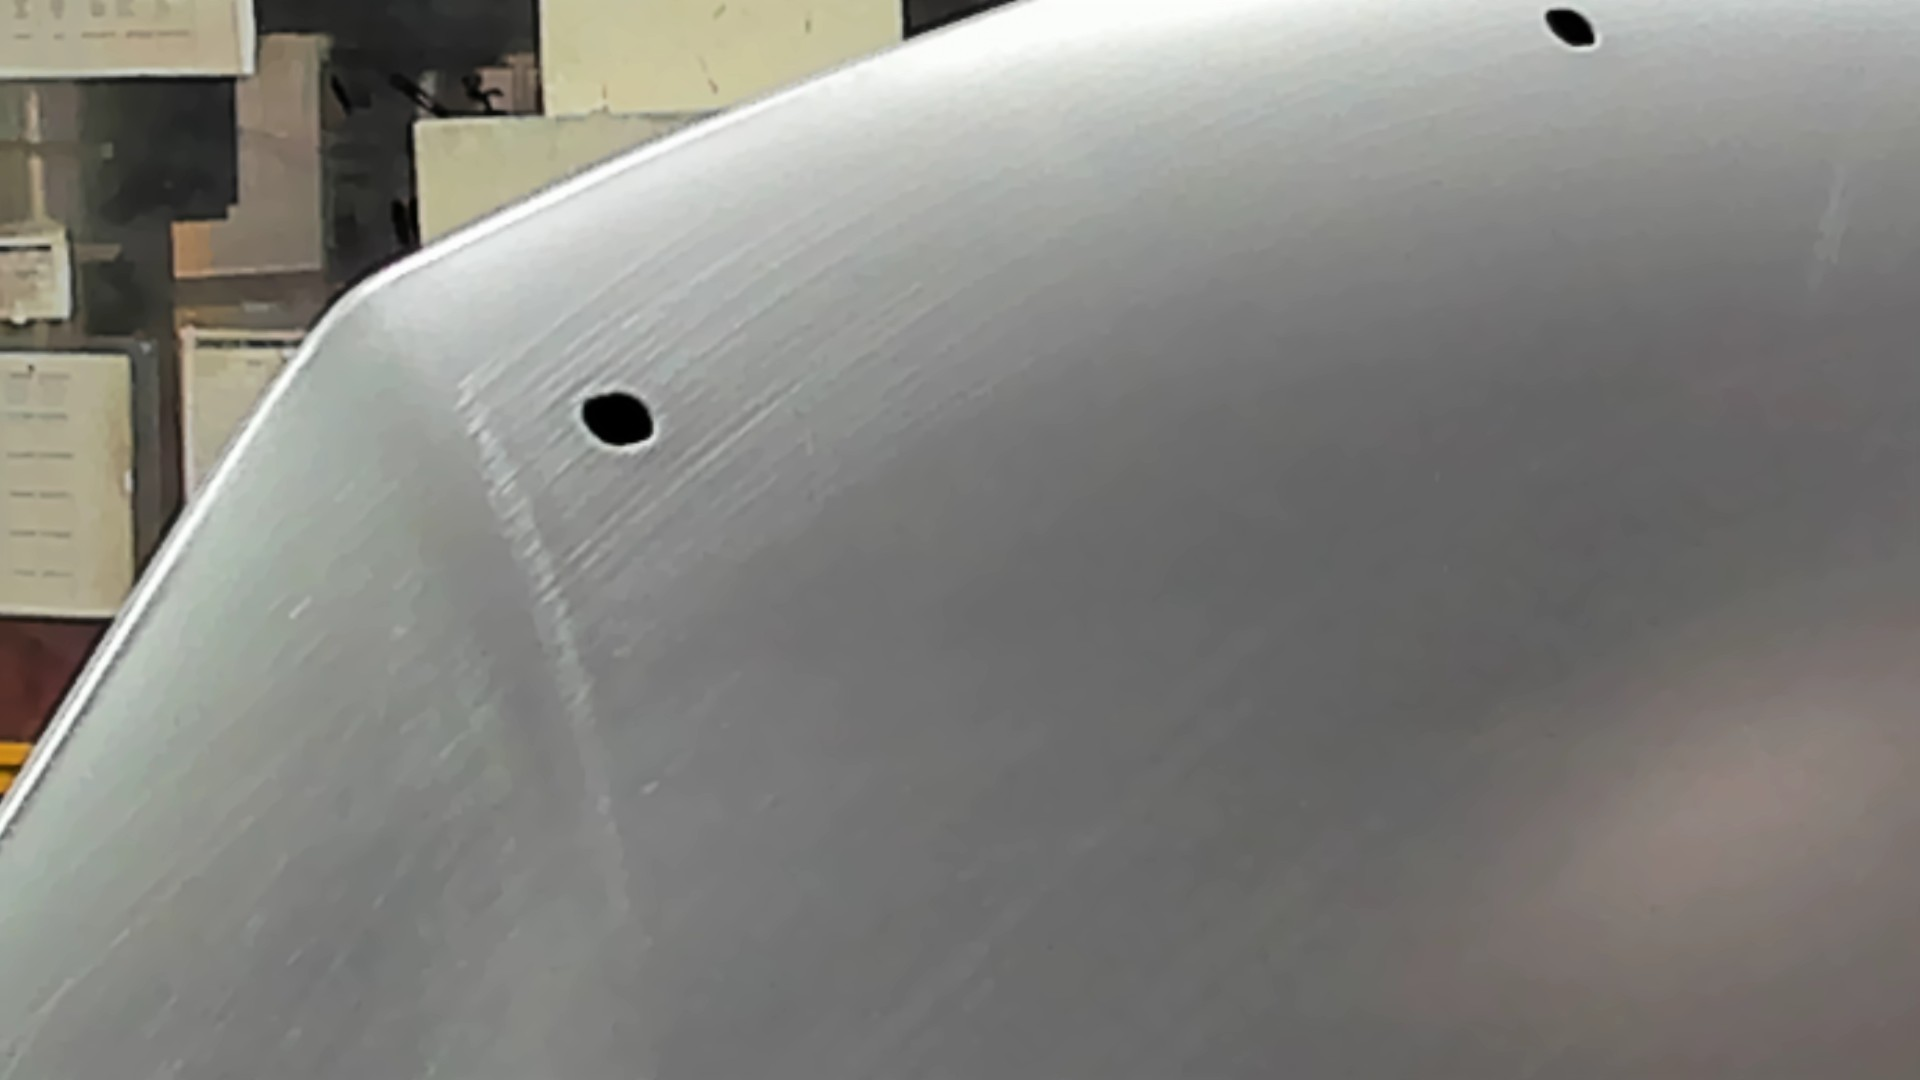amorfo: (570, 381, 659, 459), (1539, 3, 1600, 53)
capo: (816, 117, 1920, 1080)
